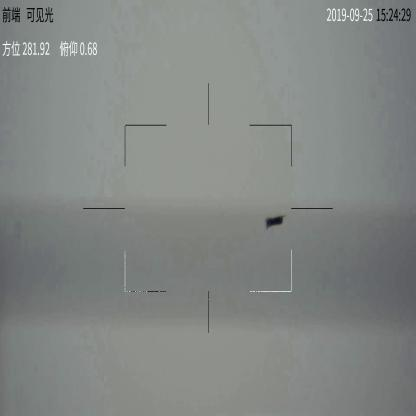uav: (265, 214, 284, 229)
